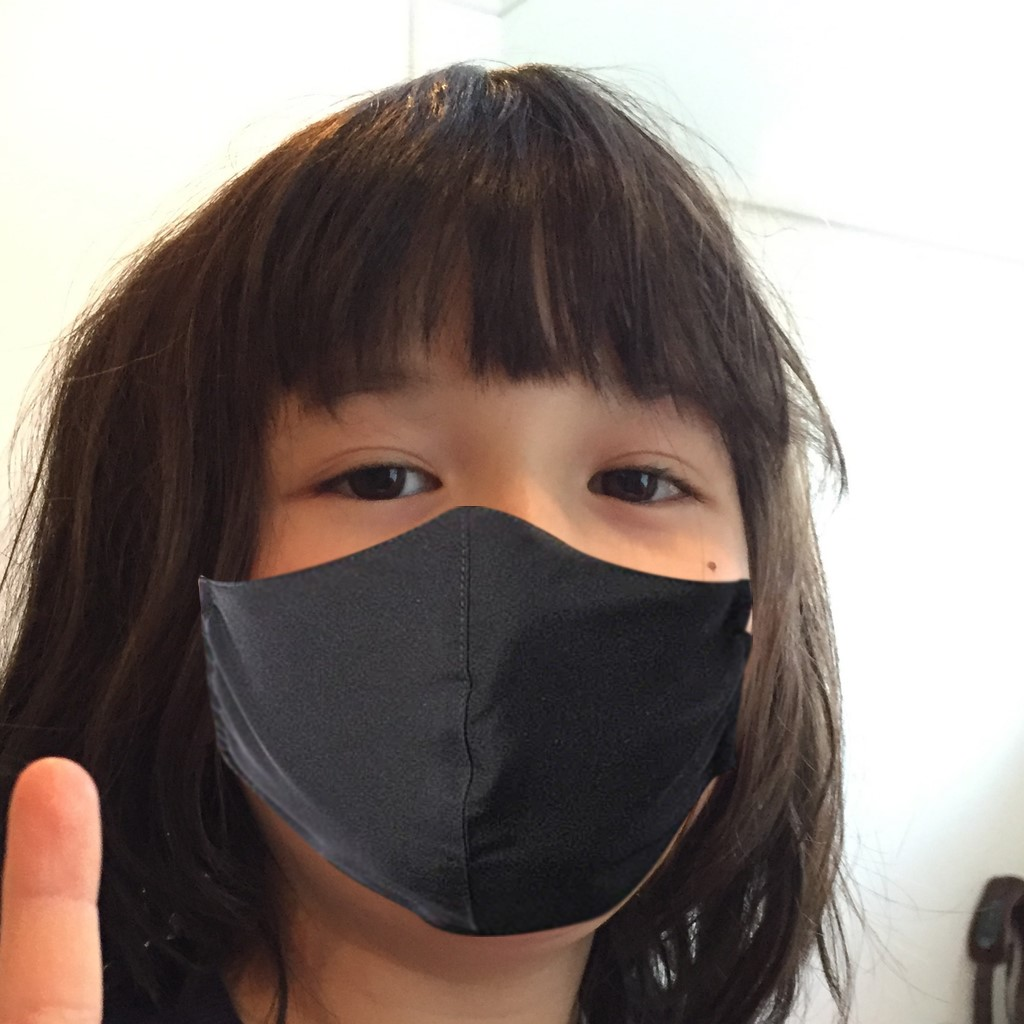con_mascara: (195, 340, 761, 916)
